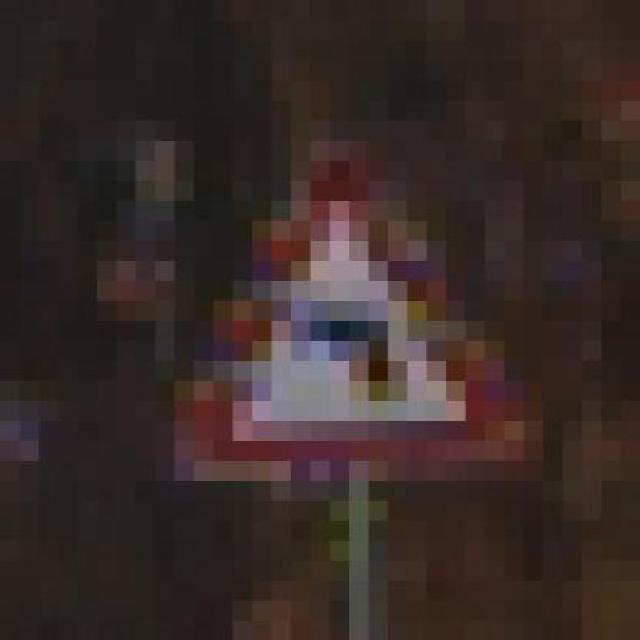Dangerous Left Curve Ahead: (135, 120, 543, 500)
